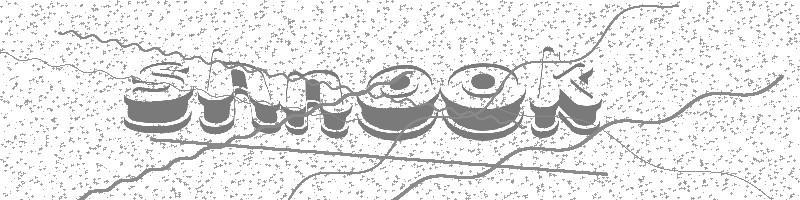h: (199, 50, 280, 134)
k: (531, 47, 603, 136)
n: (286, 71, 352, 139)
o: (440, 63, 526, 141), (358, 65, 437, 141)
s: (125, 61, 193, 131)
